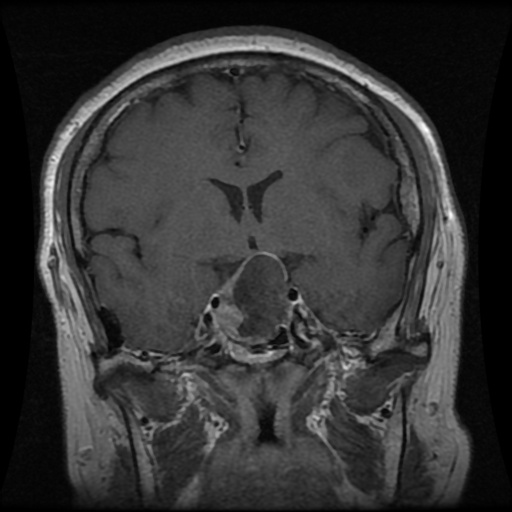pituitary: (222, 250, 291, 343)
